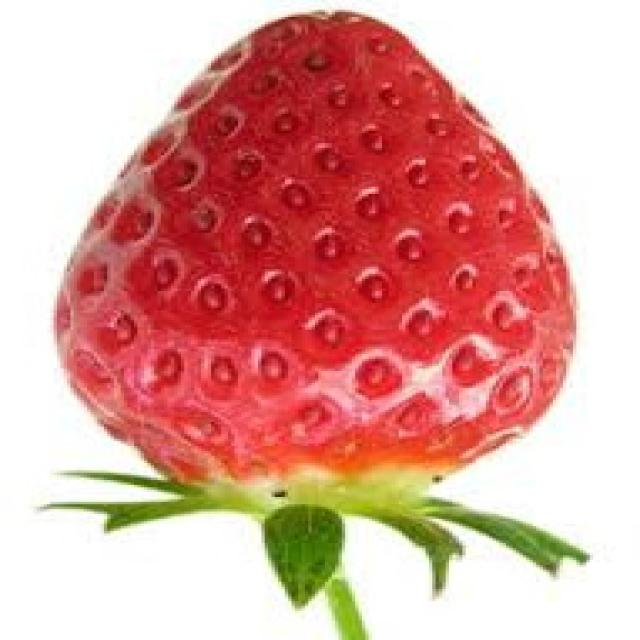mature: (55, 6, 578, 498)
